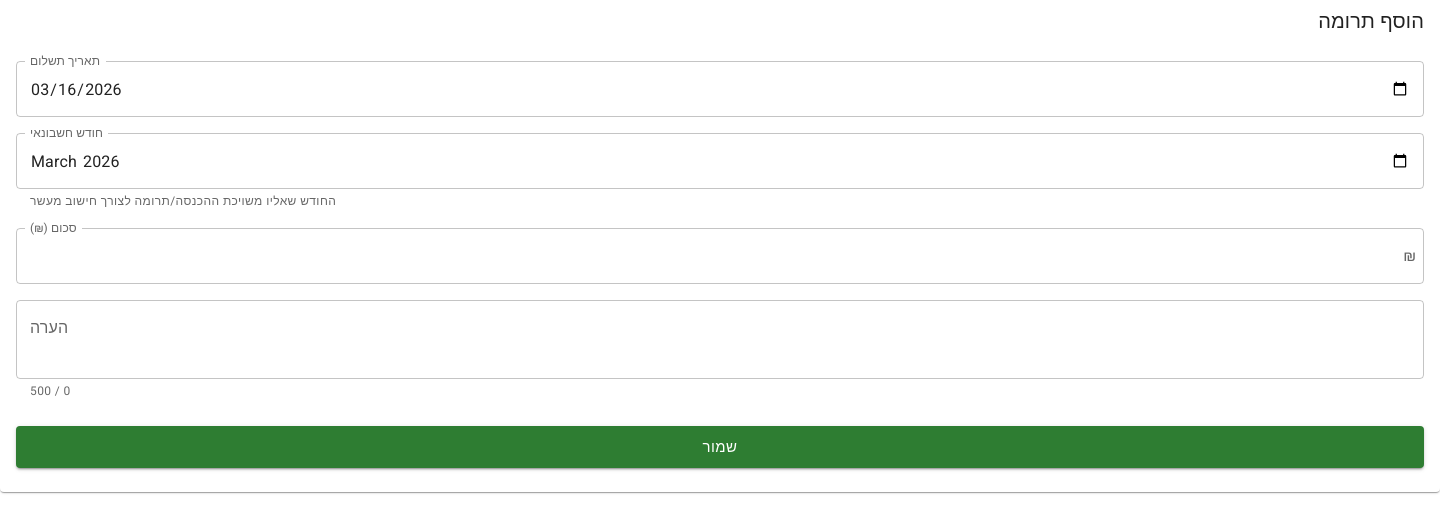
Scenario: AddDonation Component › form validation › should update note character count as user types
This screenshot has width=1440, height=511.
Type "Charity" into the text box labelled "הערה" at (720, 339), box [30,316,1410,362]
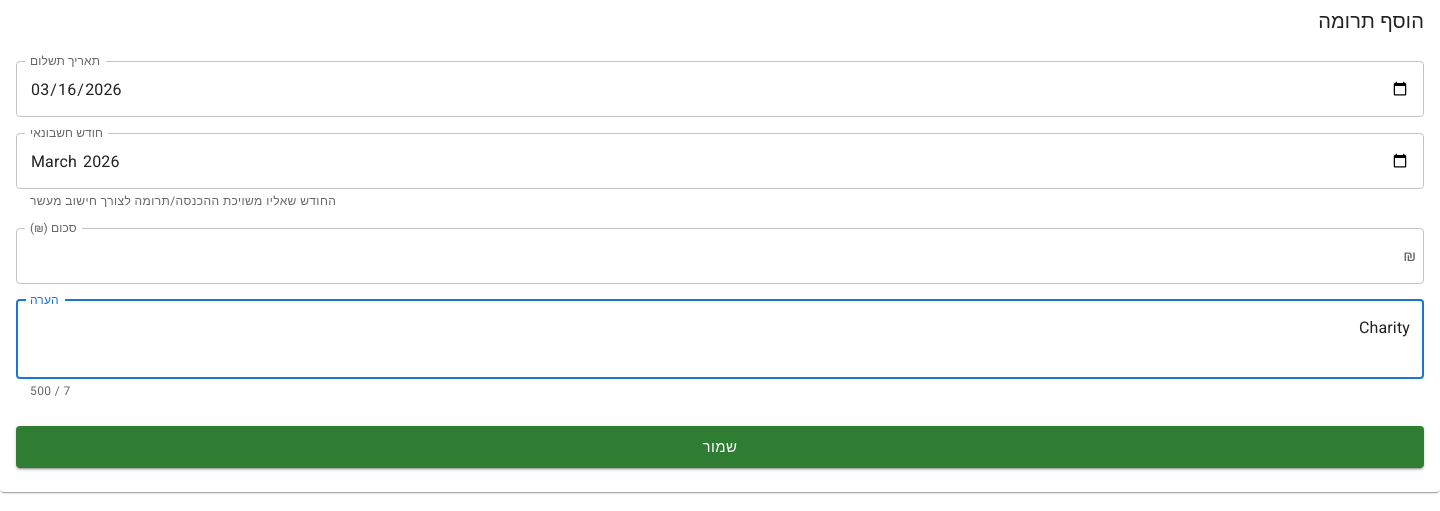
Result: the text "7 / 500" is shown at [30,384,71,398]
